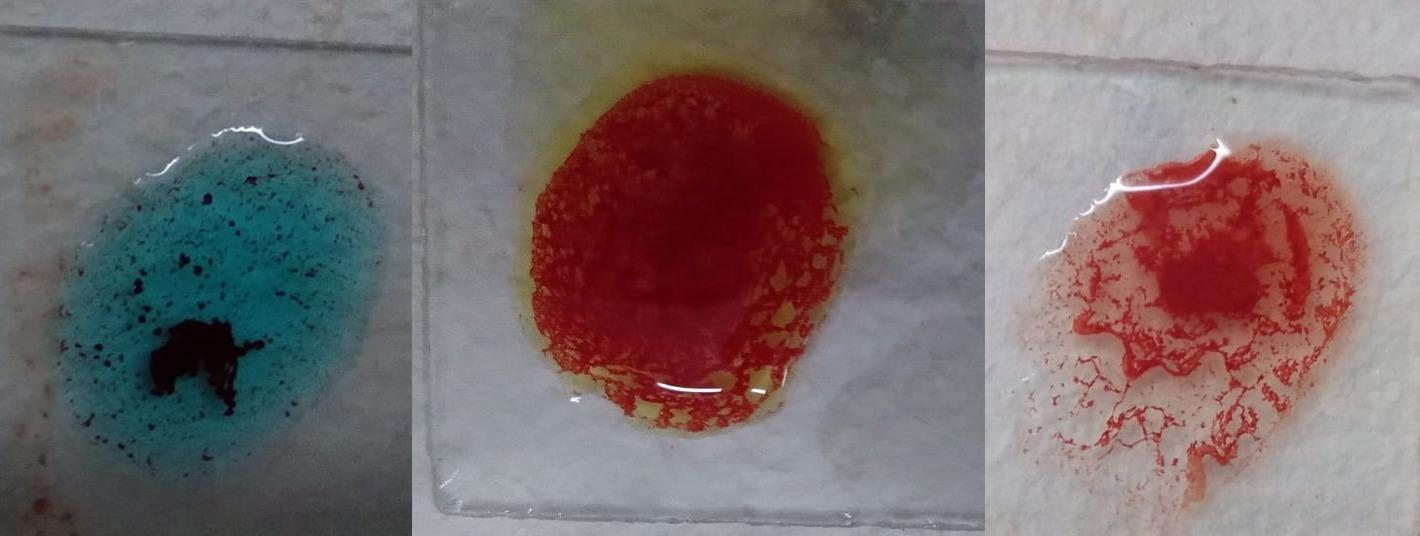A: (53, 127, 379, 478)
B: (522, 45, 859, 429)
D: (1019, 157, 1360, 477)
